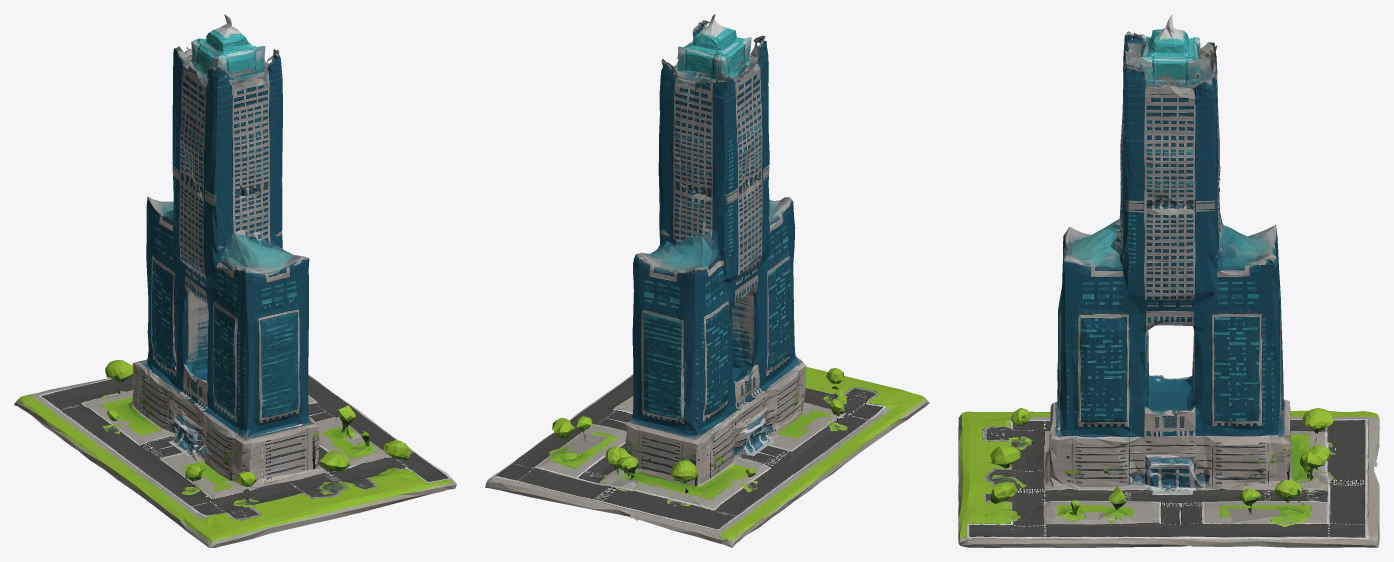
Rendered from tripo_convert_191790b1-bd67-411e-bea2-29a8b29ddab1.obj.
3 renders of one model, left to right at view 1: azimuth 30°, elevation 25°; view 2: azimuth 150°, elevation 25°; view 3: azimuth 270°, elevation 25°, orthographic. The views are drawn at different scales.
Parts seen in each view (by area): view 1: tripo_node_191790b1-bd67-411e-bea2-29a8b29ddab1; view 2: tripo_node_191790b1-bd67-411e-bea2-29a8b29ddab1; view 3: tripo_node_191790b1-bd67-411e-bea2-29a8b29ddab1.
Part boxes in pixels (x1,y1,x2,y2): tripo_node_191790b1-bd67-411e-bea2-29a8b29ddab1: (14, 14, 456, 547); tripo_node_191790b1-bd67-411e-bea2-29a8b29ddab1: (485, 14, 929, 547); tripo_node_191790b1-bd67-411e-bea2-29a8b29ddab1: (958, 14, 1379, 547).
Bounding box in the file's own units: 0.5744 × 0.9573 × 0.788.
1 material, 1 textured.
